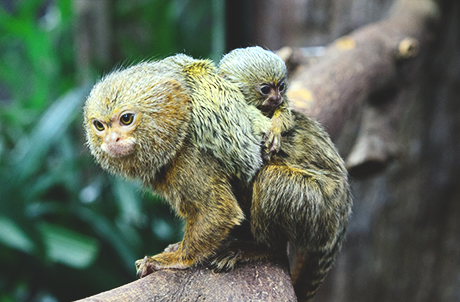PygmyMarmoset: (79, 80, 348, 277), (224, 51, 301, 110)
